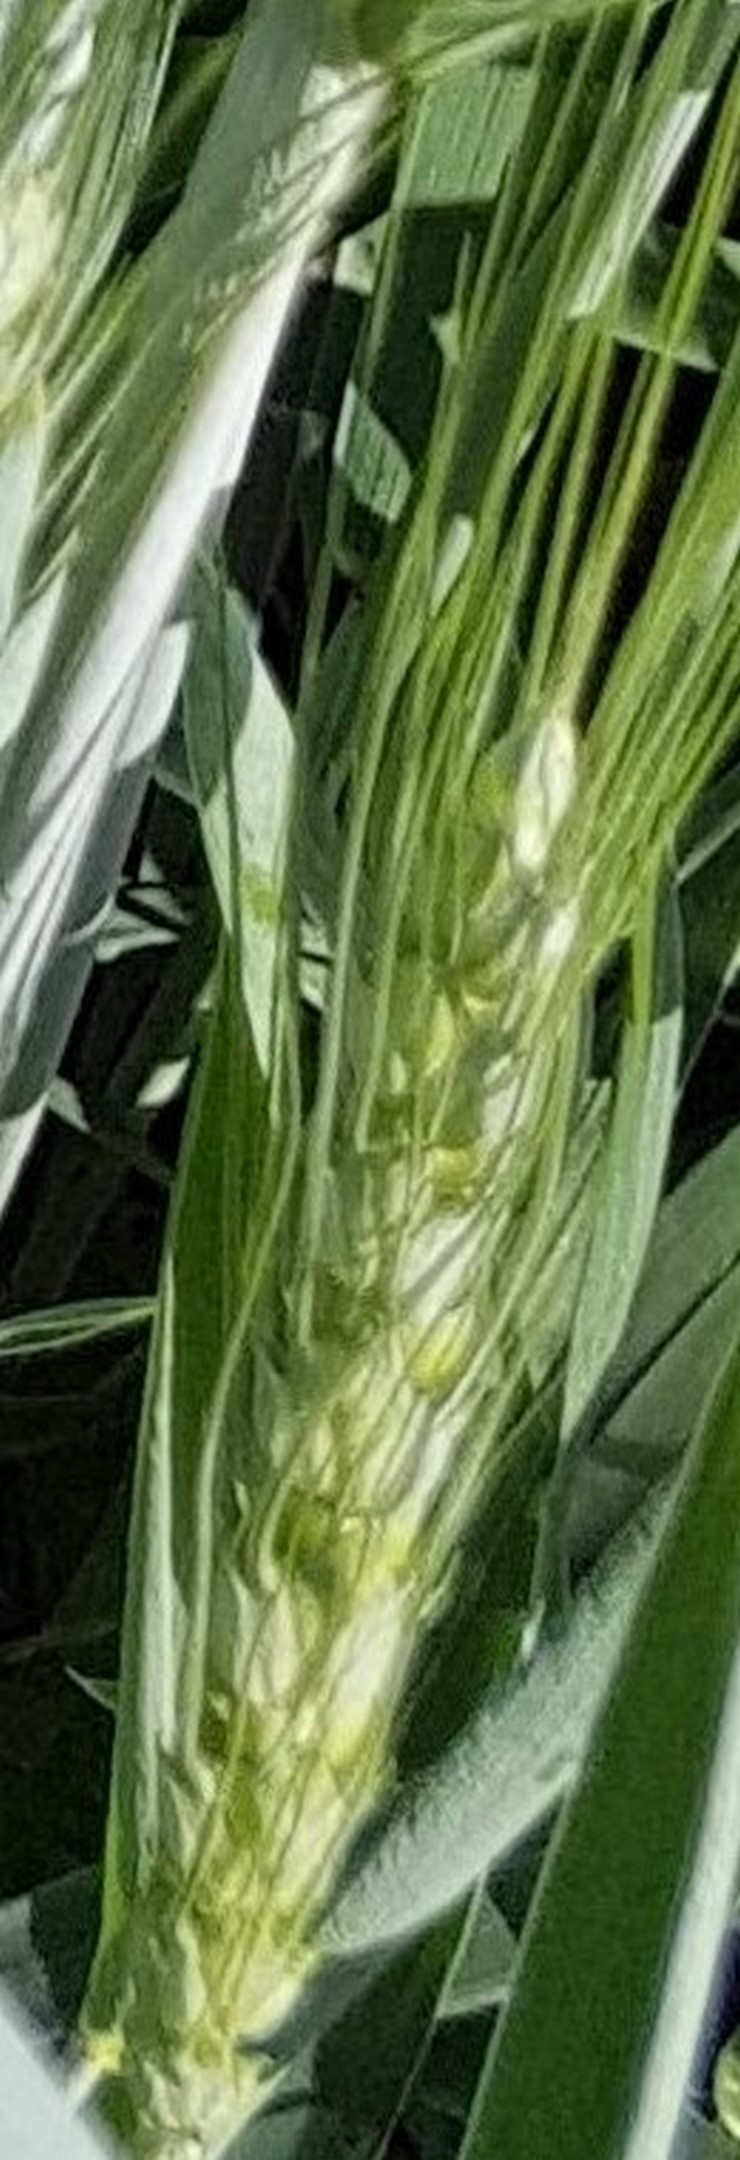Healthy Wheat: (114, 682, 664, 2084)
